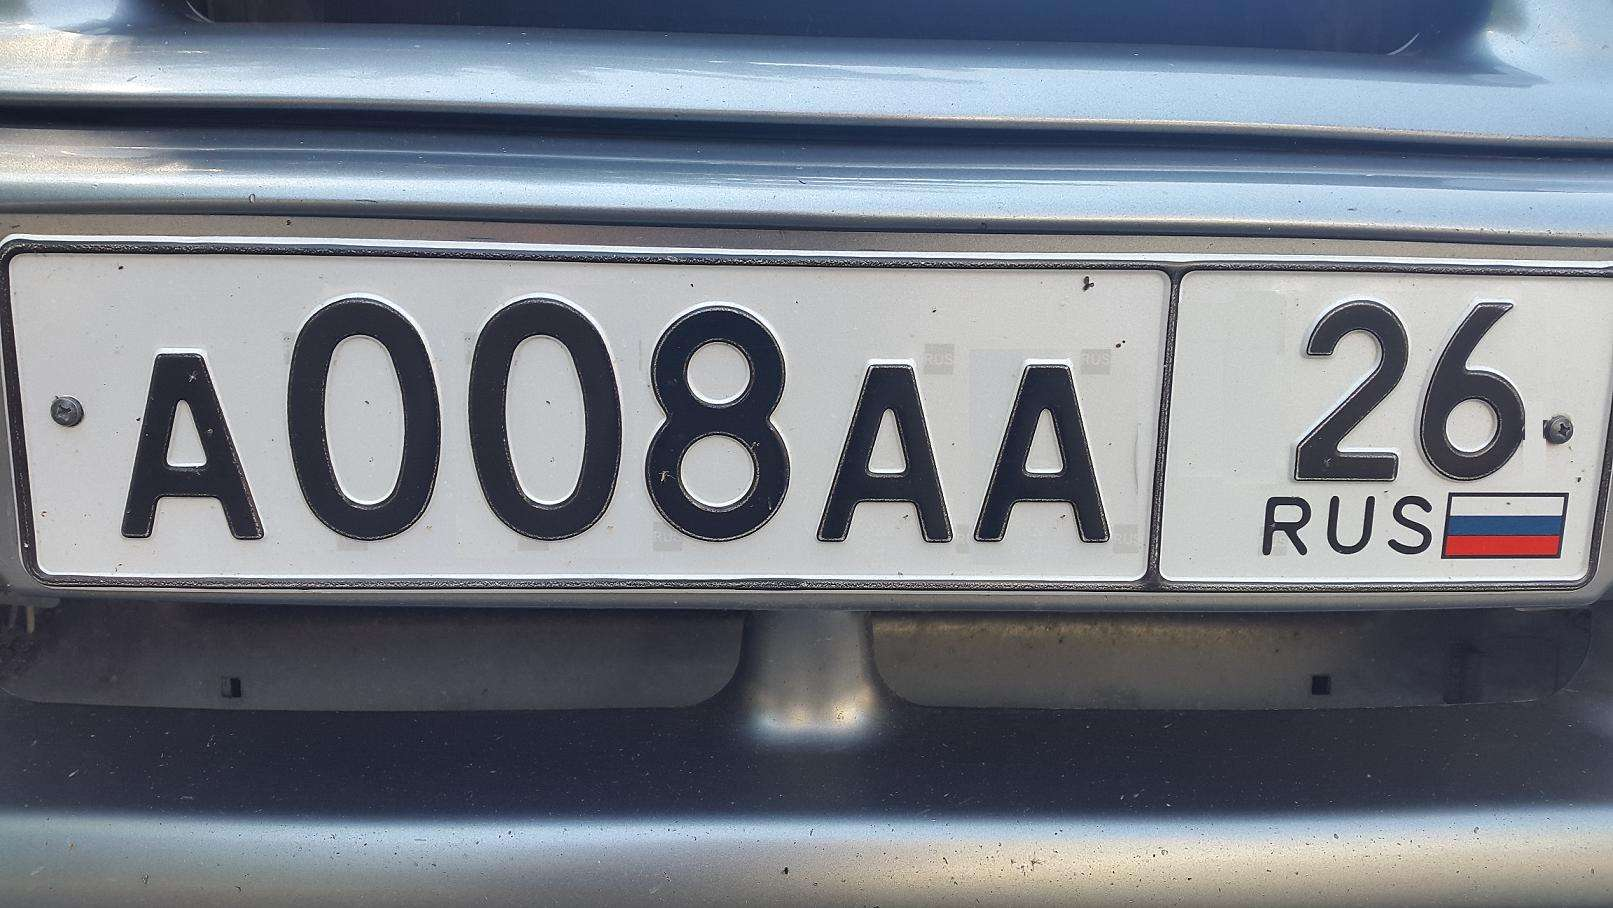number_plate: (19, 243, 1576, 585)
